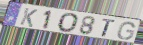1: (42, 10, 54, 30)
8: (79, 15, 97, 36)
G: (116, 21, 136, 41)
K: (19, 7, 39, 28)
O: (57, 12, 81, 34)
T: (101, 18, 117, 38)
